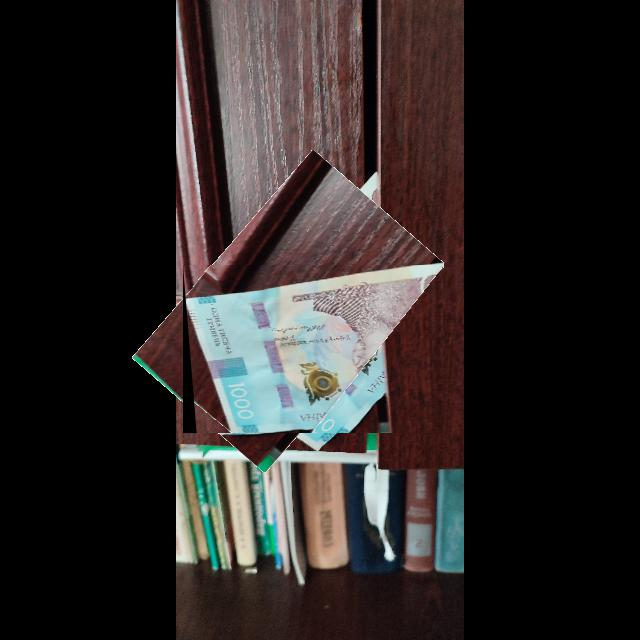1000uah: (186, 266, 444, 434)
